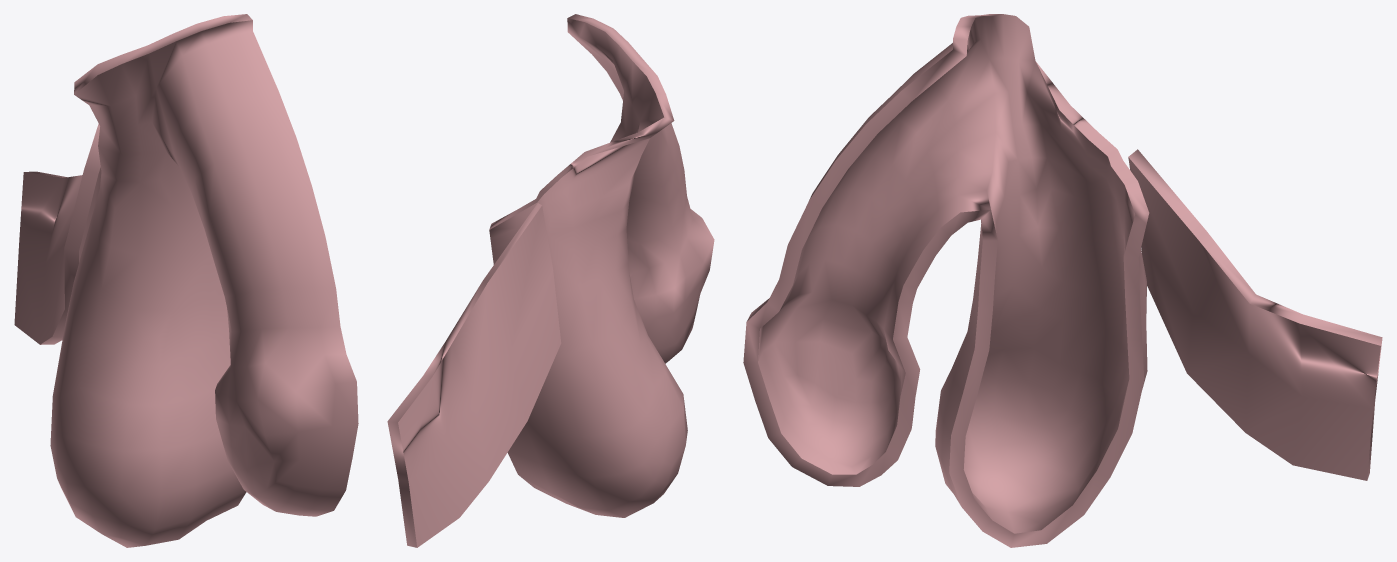
The picture shows the model from 3 angles, left to right: view 1: azimuth 30°, elevation 25°; view 2: azimuth 150°, elevation 25°; view 3: azimuth 270°, elevation 25°; orthographic projection. The views are drawn at different scales.
Visible parts, largest first — view 1: ZA_5e1fd7bfcd9ec224; view 2: ZA_5e1fd7bfcd9ec224; view 3: ZA_5e1fd7bfcd9ec224.
Boxes of the visible parts, bbox=[...] form: ZA_5e1fd7bfcd9ec224: bbox=[14, 14, 358, 547]; ZA_5e1fd7bfcd9ec224: bbox=[387, 14, 714, 547]; ZA_5e1fd7bfcd9ec224: bbox=[743, 14, 1382, 547].
Bounding box in the file's own units: 0.035 × 0.1147 × 0.1272.
